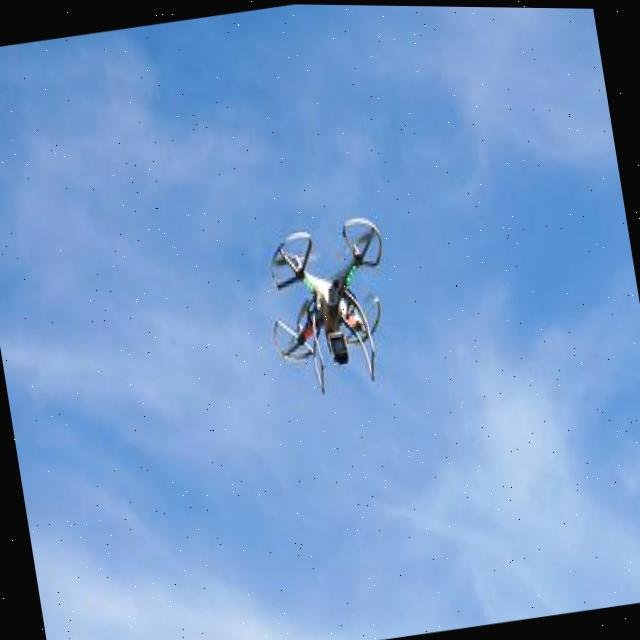drone: (238, 188, 417, 414)
